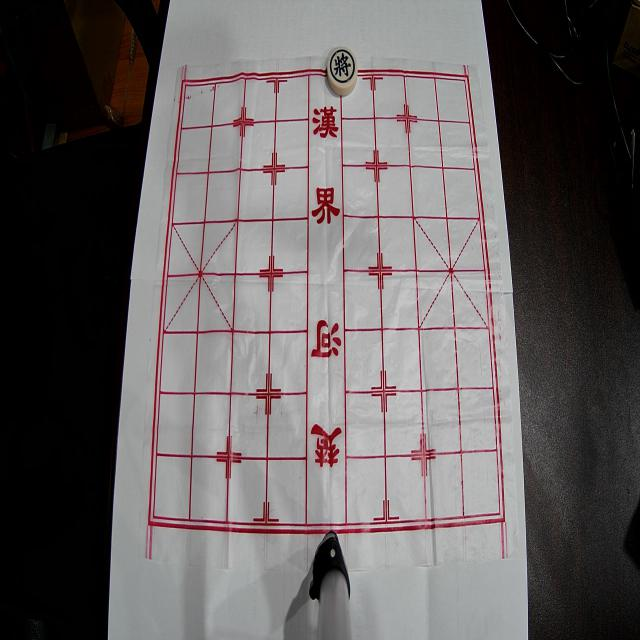black-general: (328, 46, 358, 96)
